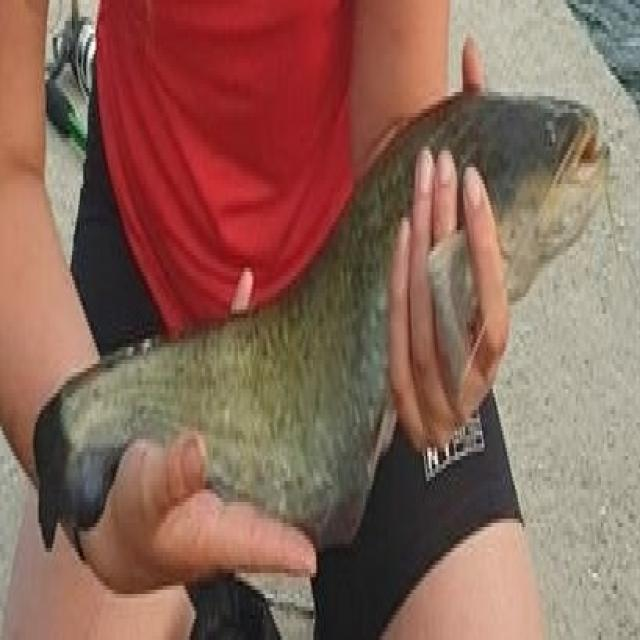Catfish: (27, 84, 628, 560)
